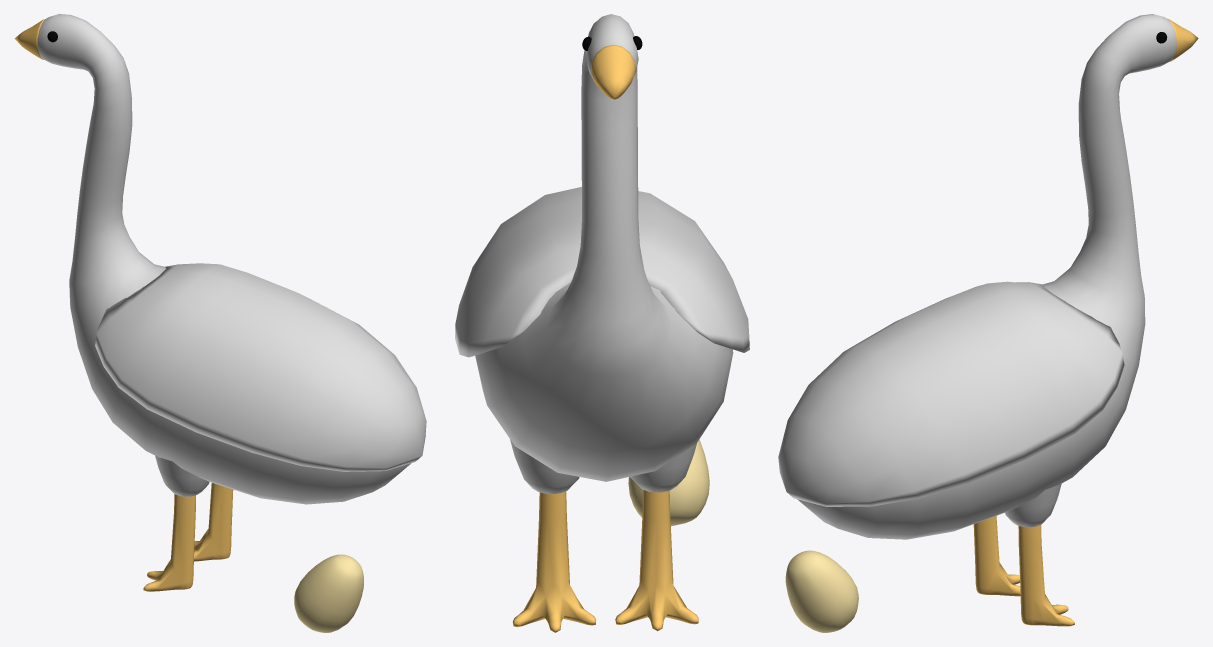
The model's file is goose.fbx.
The picture shows the model from 3 angles, left to right: view 1: azimuth 30°, elevation 25°; view 2: azimuth 150°, elevation 25°; view 3: azimuth 270°, elevation 25°; orthographic projection. The views are drawn at different scales.
Parts seen in each view (by area): view 1: gachou; view 2: gachou; view 3: gachou.
Boxes of the visible parts, x1,y1,x2,y2 form: gachou: (14, 14, 426, 632); gachou: (455, 14, 749, 632); gachou: (778, 14, 1198, 632).
Bounding box in the file's own units: 2.16 × 4.45 × 3.04.
